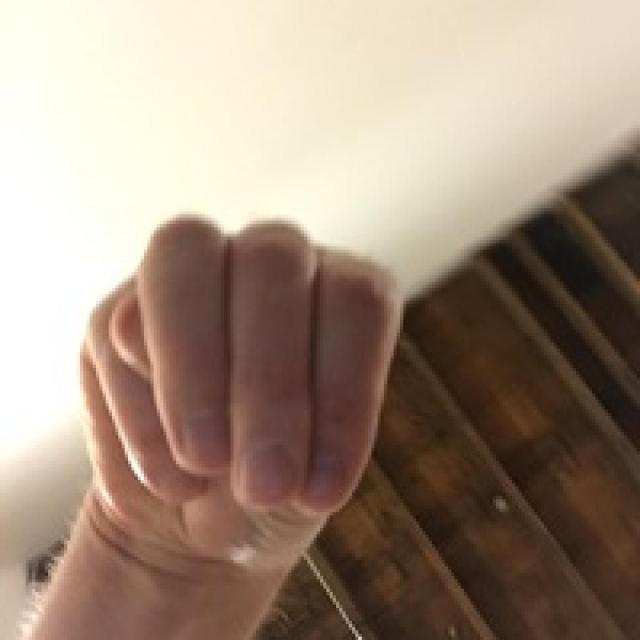M: (17, 199, 454, 556)
